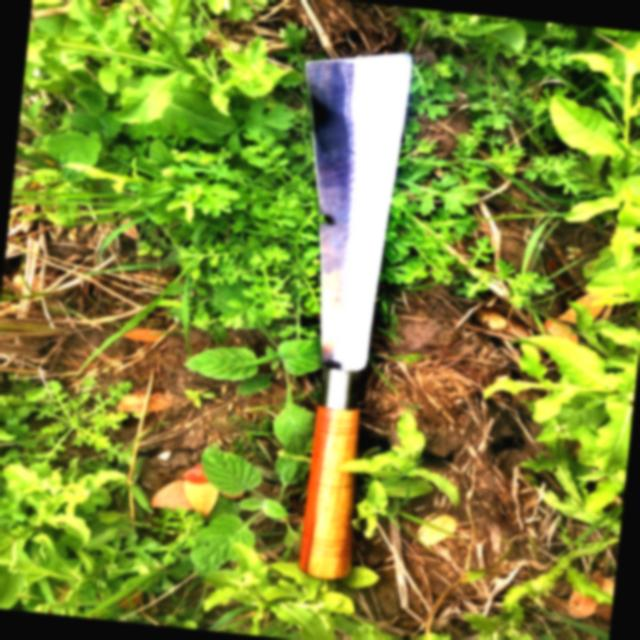eto: (290, 44, 421, 584)
